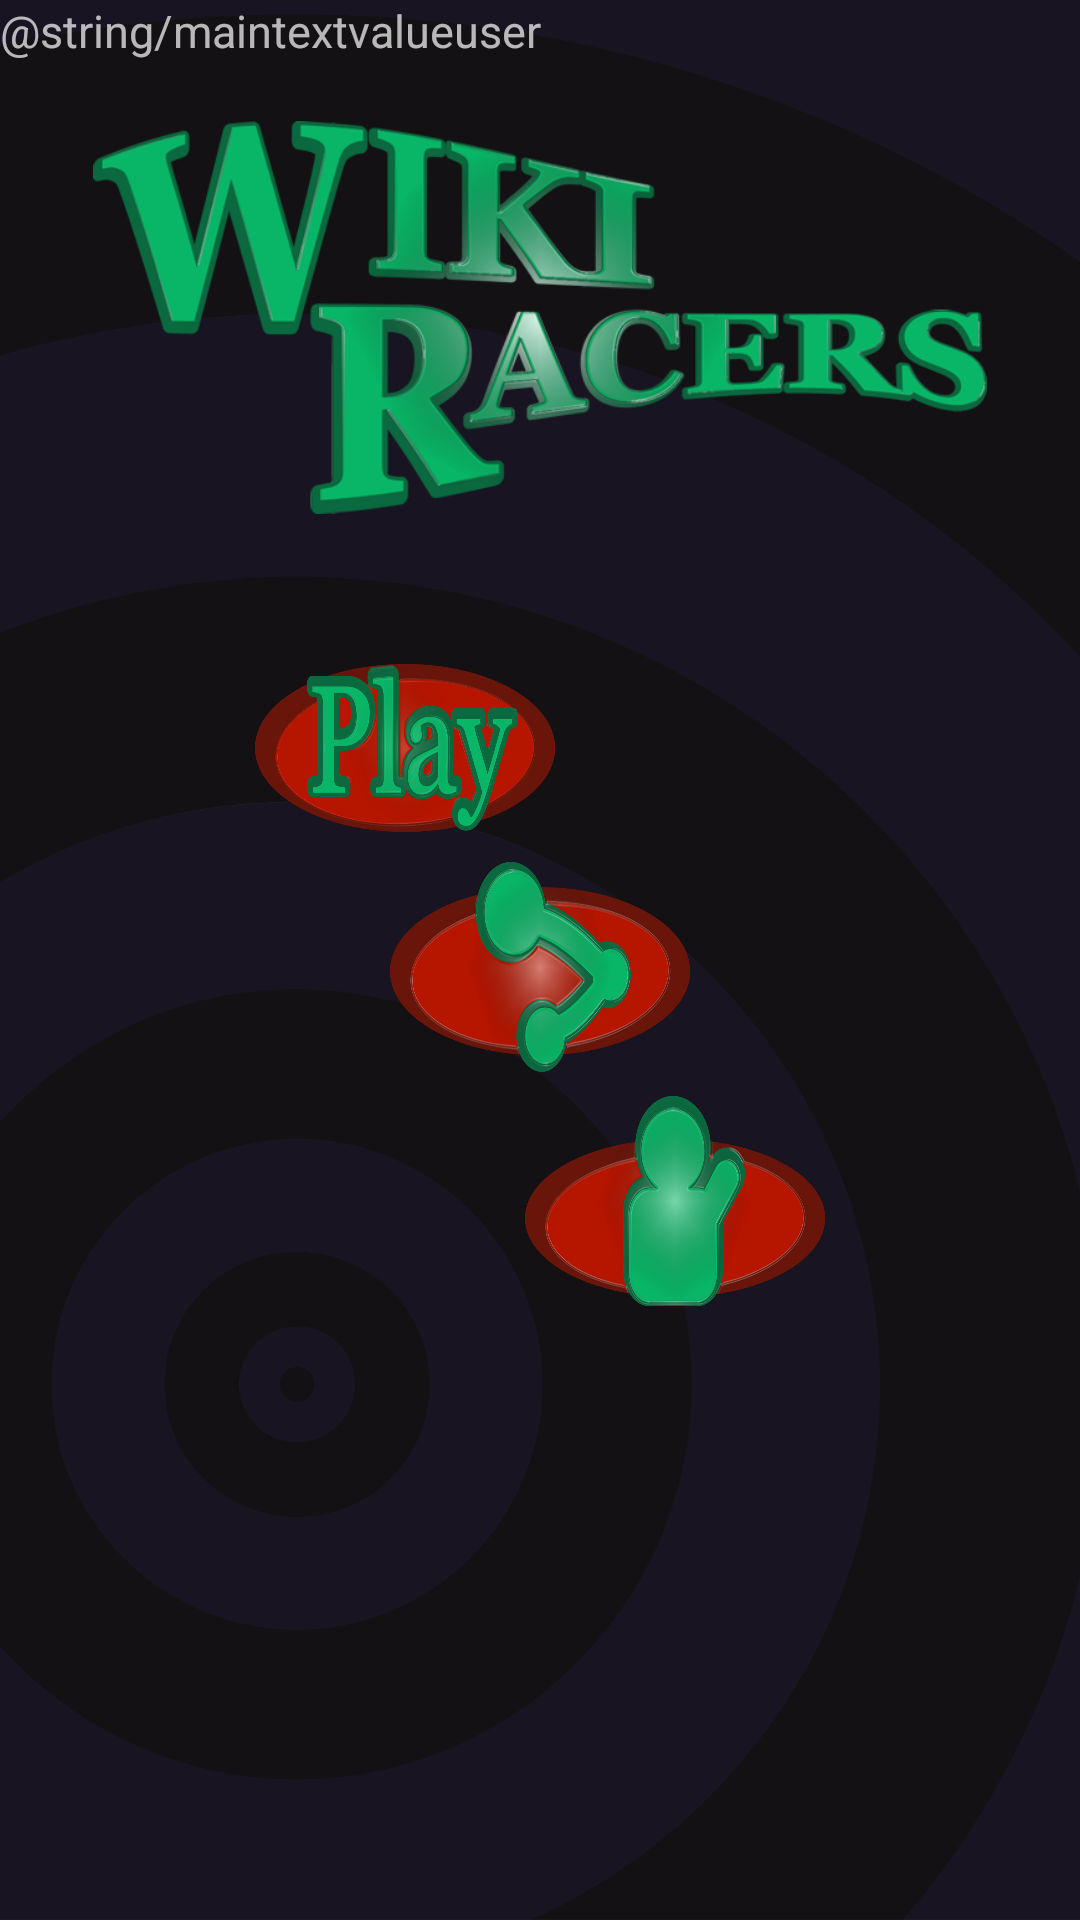

Locate icon controls on the screen. Image size 1080 x 1920, boxes as box=[x1, y1, x2, y2].
sharebutton: box=[390, 862, 690, 1072]
socialbutton: box=[525, 1096, 825, 1306]
